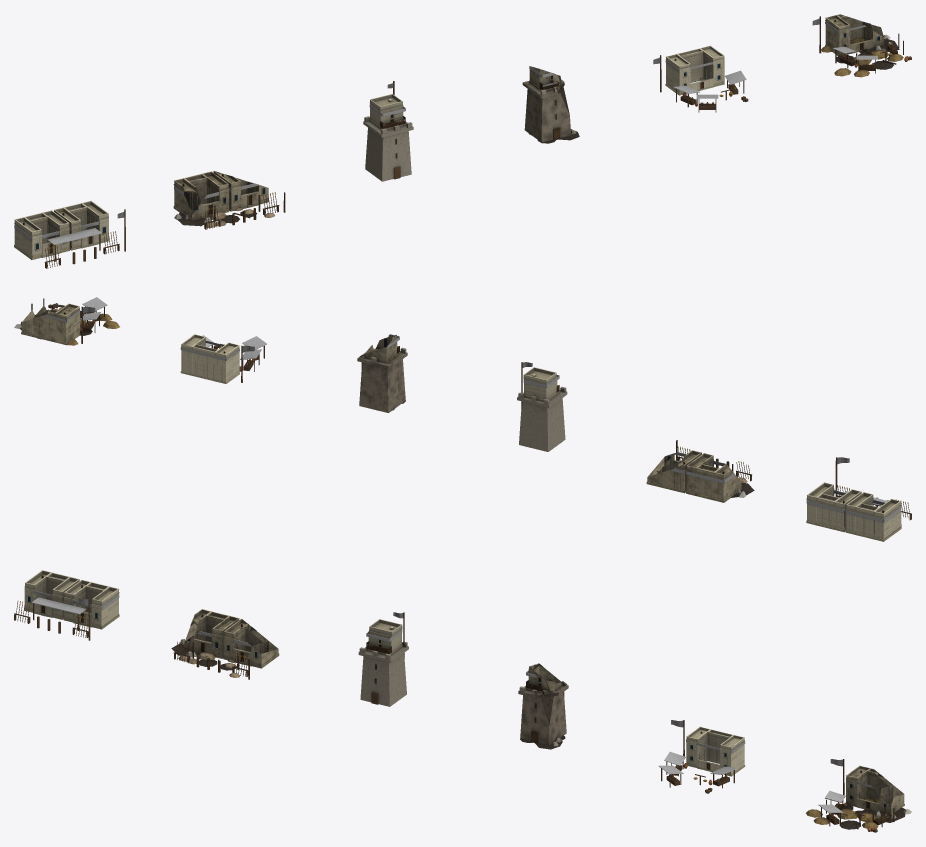
Rendered from rts-classical-israelite.glb.
The picture shows the model from 3 angles, top to bottom: view 1: azimuth 30°, elevation 25°; view 2: azimuth 150°, elevation 25°; view 3: azimuth 330°, elevation 25°; orthographic projection.
Parts seen in each view (by area): view 1: LOD0, LOD0.001, LOD0.005, LOD0.002, LOD0.004, LOD0.003; view 2: LOD0, LOD0.001, LOD0.002, LOD0.003, LOD0.004, LOD0.005; view 3: LOD0, LOD0.001, LOD0.005, LOD0.002, LOD0.004, LOD0.003.
Part boxes in pixels (<box>): LOD0: <box>14,200,125,268</box>; LOD0.001: <box>173,171,285,229</box>; LOD0.005: <box>812,14,911,77</box>; LOD0.002: <box>363,81,413,181</box>; LOD0.004: <box>653,45,748,112</box>; LOD0.003: <box>522,66,579,143</box>; LOD0: <box>806,457,911,541</box>; LOD0.001: <box>646,440,754,502</box>; LOD0.002: <box>517,362,567,451</box>; LOD0.003: <box>357,334,407,412</box>; LOD0.004: <box>180,334,266,383</box>; LOD0.005: <box>14,297,119,345</box>; LOD0: <box>14,570,119,640</box>; LOD0.001: <box>171,609,279,679</box>; LOD0.005: <box>806,759,911,832</box>; LOD0.002: <box>358,612,408,706</box>; LOD0.004: <box>659,720,745,793</box>; LOD0.003: <box>518,663,568,749</box>.
Size of what is drawn, in the model's own units: 16.4 by 1.48 by 1.36.
2 materials, 2 textured.
